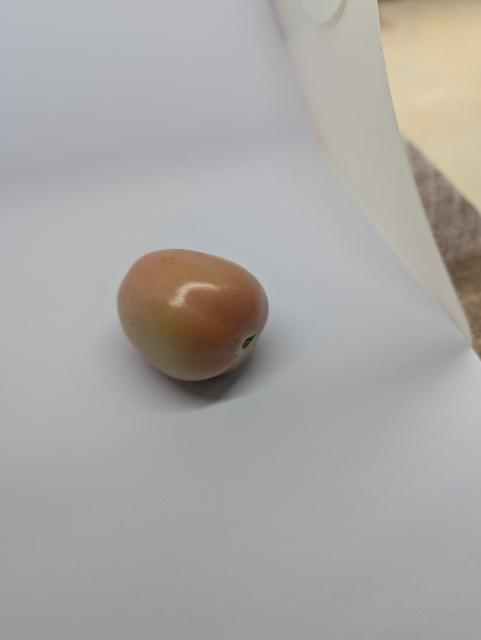turning: (114, 245, 278, 392)
